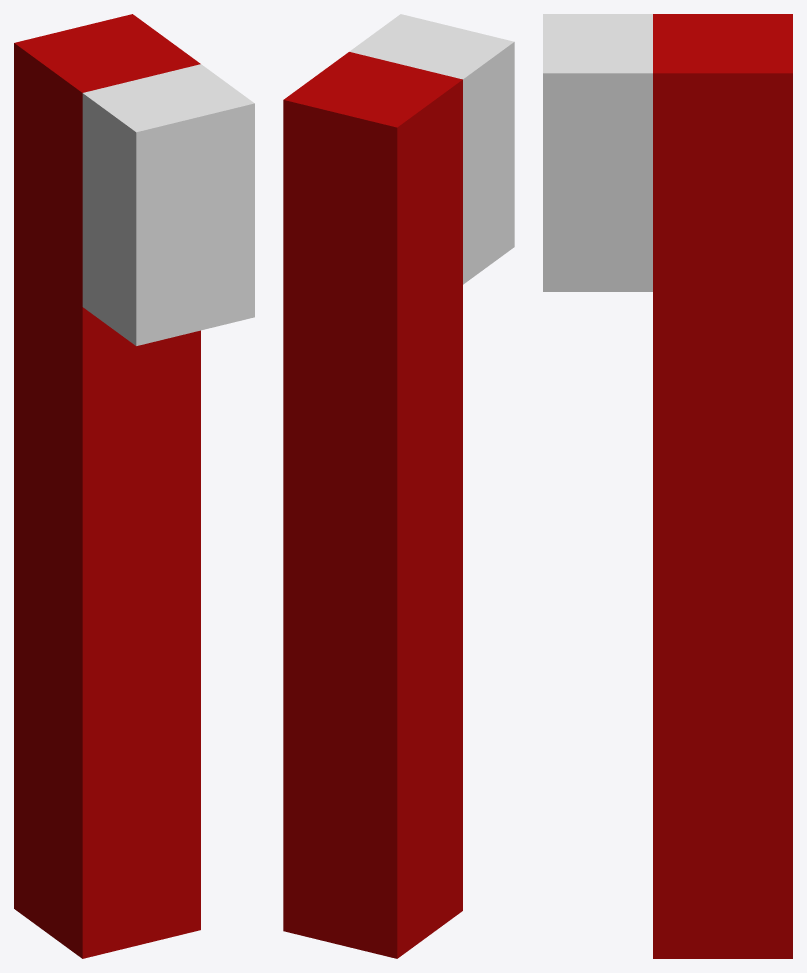
The model's file is ToothbrushRed.fbx.
3 views of the same model, side by side, from view 1: azimuth 30°, elevation 25°; view 2: azimuth 150°, elevation 25°; view 3: azimuth 270°, elevation 25° (orthographic). The views are drawn at different scales.
Visible parts, largest first — view 1: ToothbrushRed; view 2: ToothbrushRed; view 3: ToothbrushRed.
Part boxes in pixels (x1,y1,x2,y2): ToothbrushRed: (14,14,254,958); ToothbrushRed: (283,14,514,958); ToothbrushRed: (543,14,792,958).
Bounding box in the file's own units: 0.0349 × 0.244 × 0.0624.
